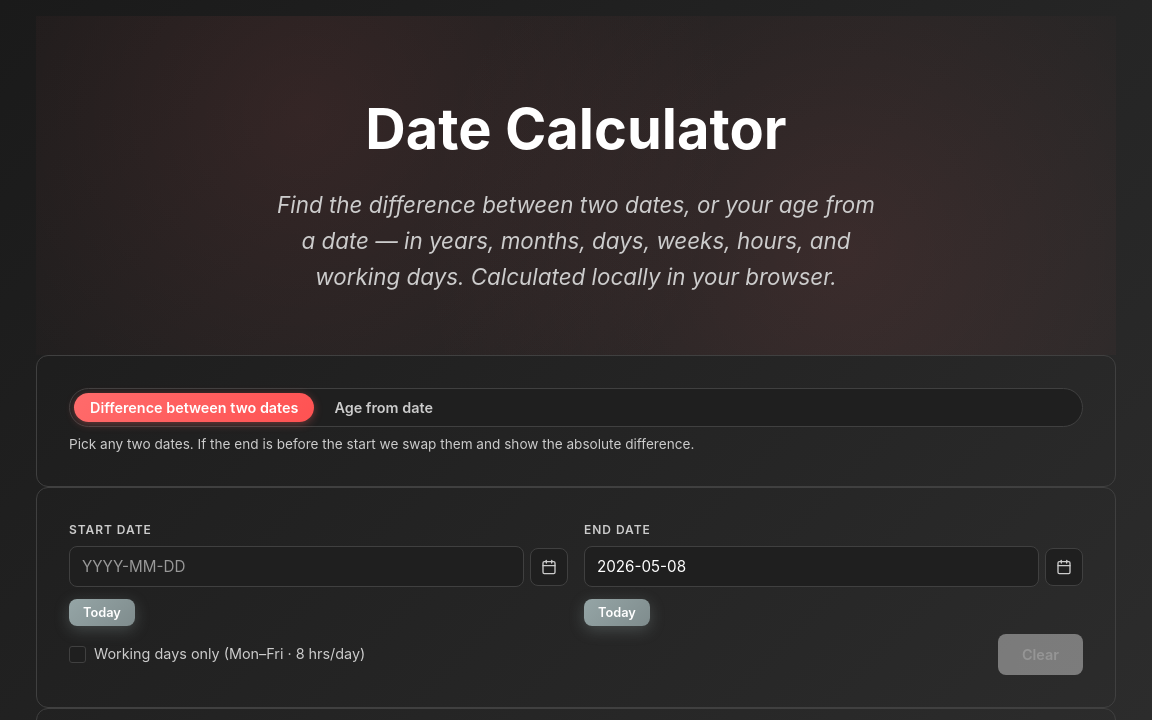
Scenario: <DateCalculator /> — Today buttons › Start "Today" button sets start date to today
Note: Click the first "Today" button (next to start).
Click the button "Today" below "Start date" at (102, 612), box [69,599,135,626]
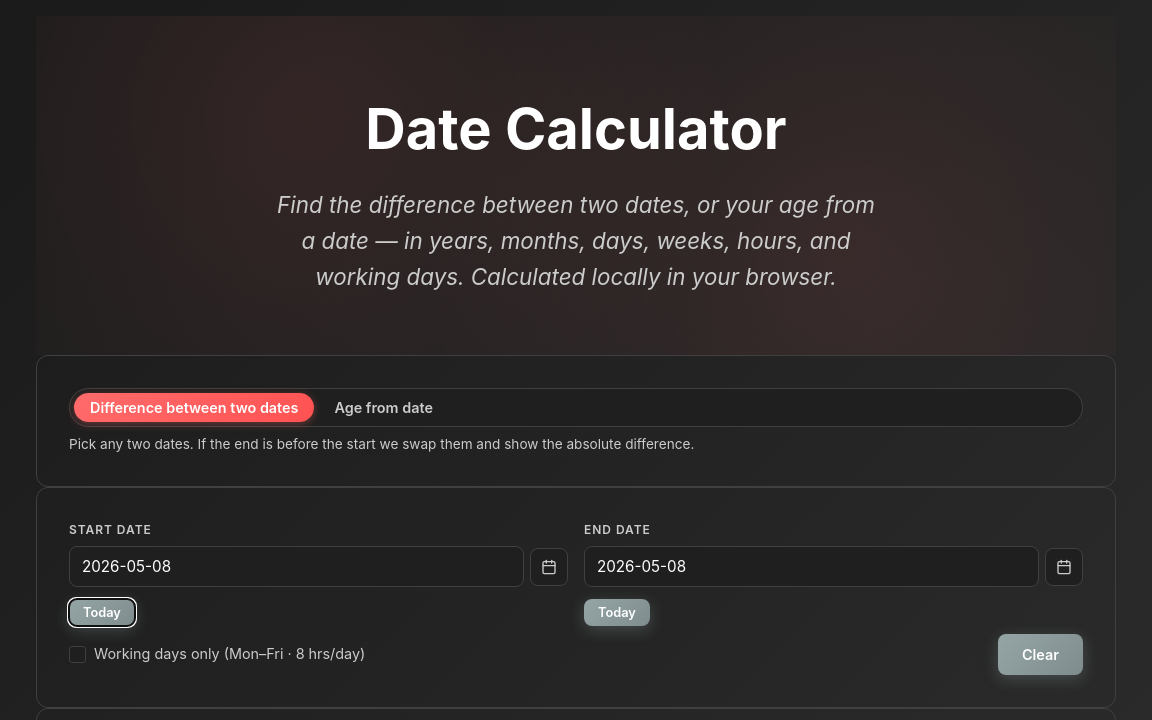
Result: the field labelled "Start date" holds "2026-05-08" at [69,546,524,587]
